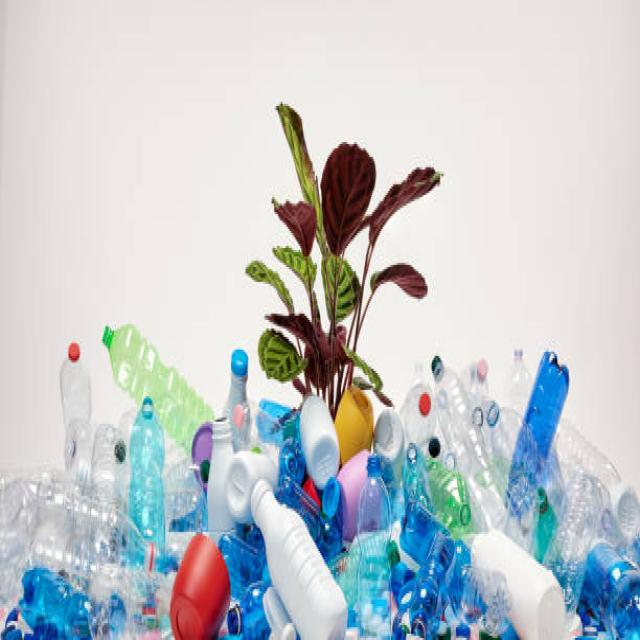plastic: (51, 358, 586, 640)
